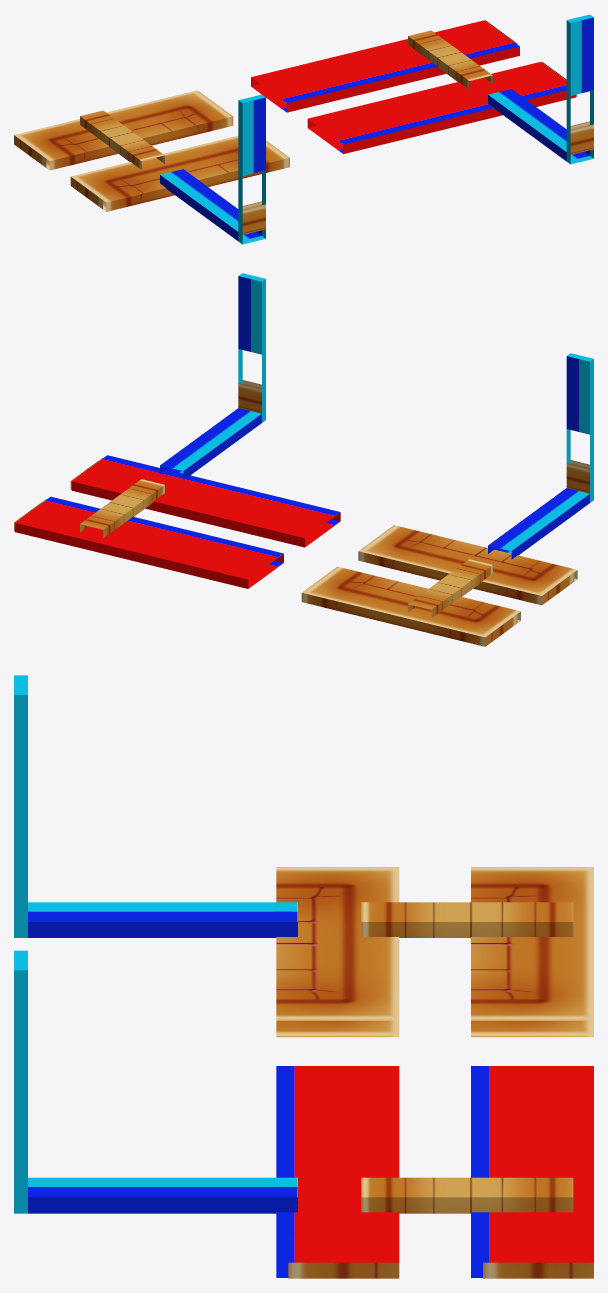
File: RoadBlock01.FBX
3 renders of one model, top to bottom at view 1: azimuth 30°, elevation 25°; view 2: azimuth 150°, elevation 25°; view 3: azimuth 270°, elevation 25°, orthographic. The views are drawn at different scales.
Visible parts, largest first — view 1: RoadBlock; view 2: RoadBlock; view 3: RoadBlock.
Part boxes in pixels (bbox=[...]): RoadBlock: bbox=[14, 14, 593, 244]; RoadBlock: bbox=[14, 273, 593, 646]; RoadBlock: bbox=[14, 675, 593, 1278].
Size of the model in its own units: 18.11 by 11.22 by 5.51.
